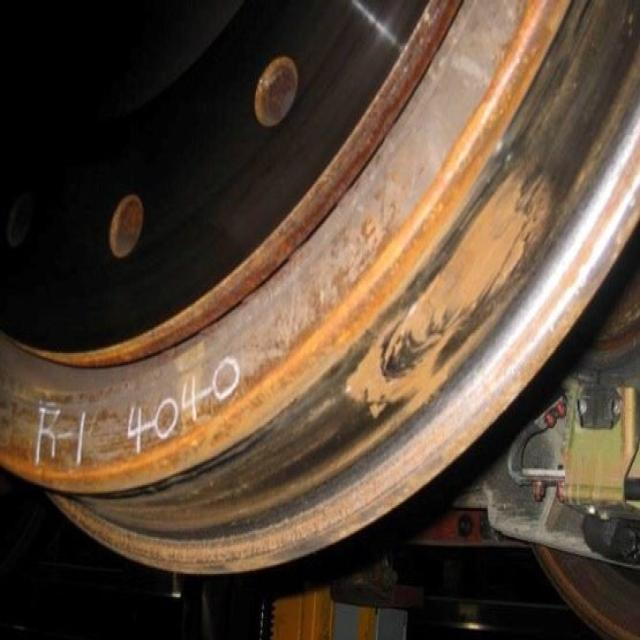Contact_Fatigue_Cracks: (317, 192, 568, 400)
